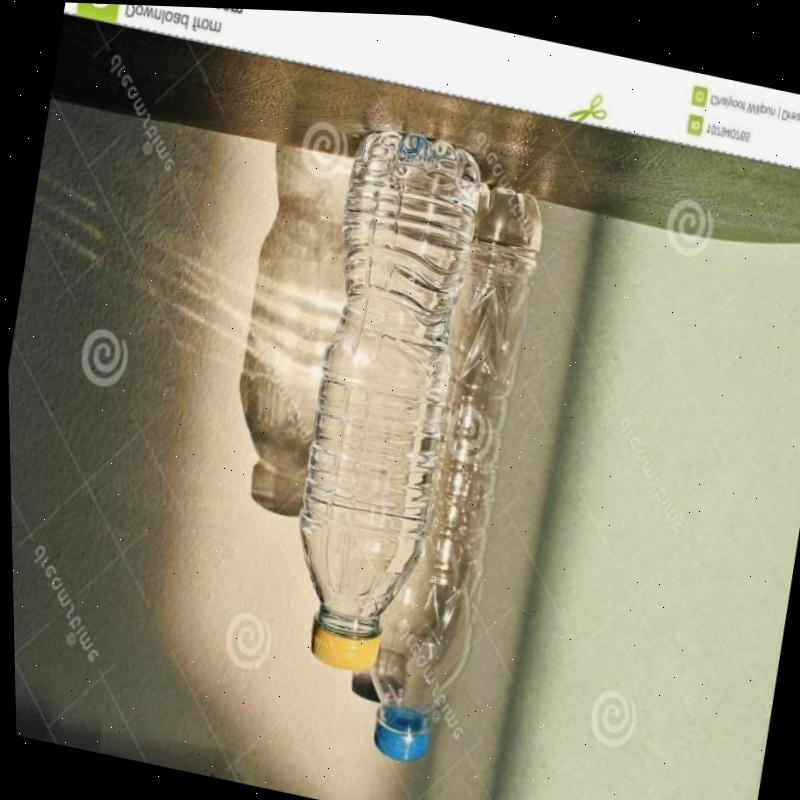botella: (262, 116, 498, 682), (337, 167, 556, 768)
